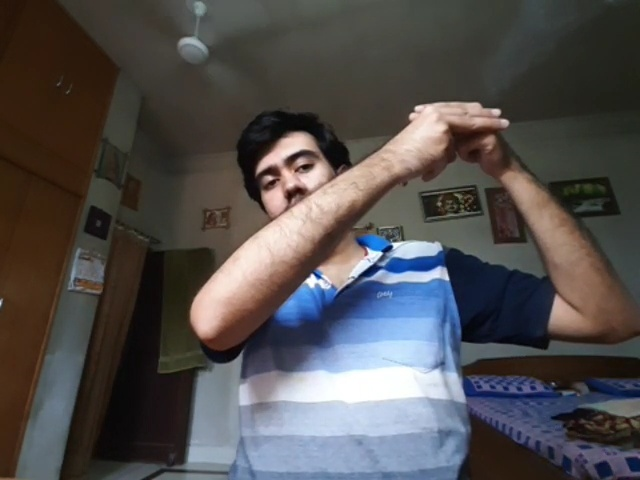Name: (402, 101, 511, 173)
